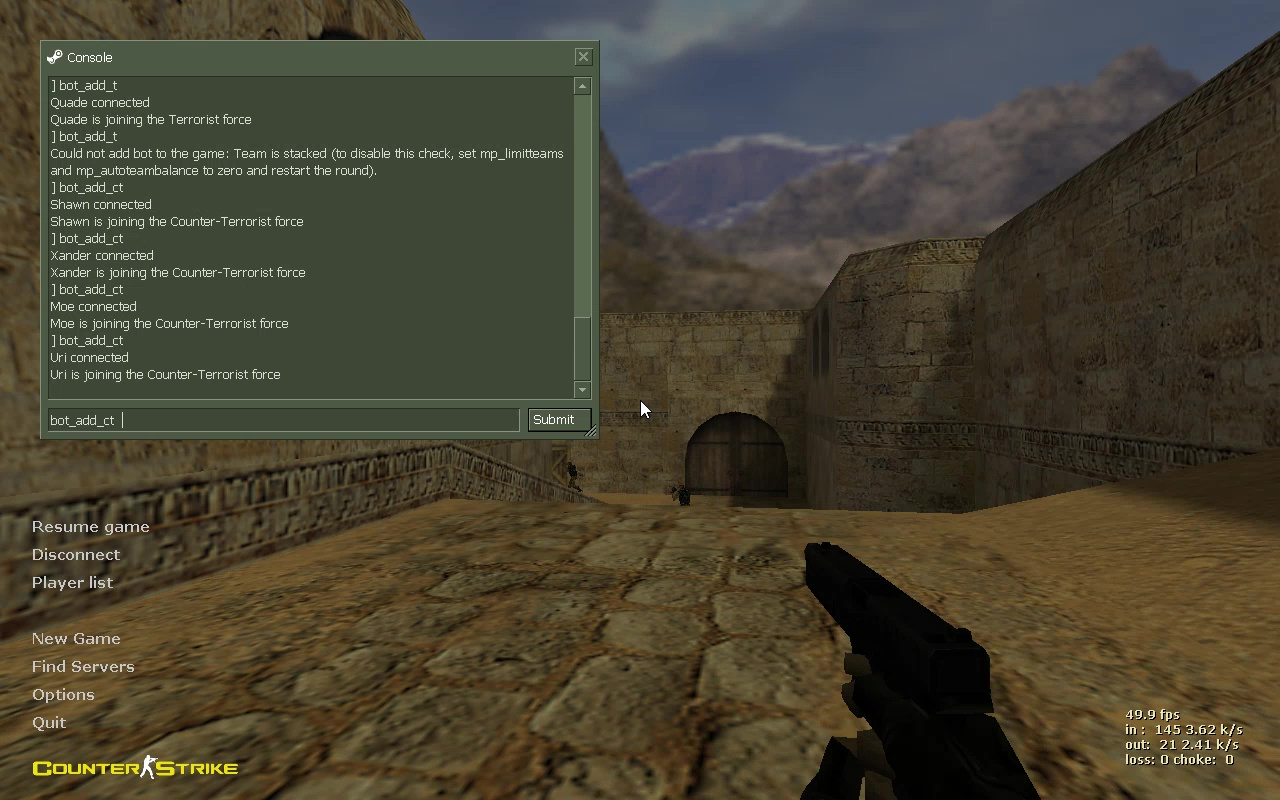terr1: (565, 463, 579, 489)
